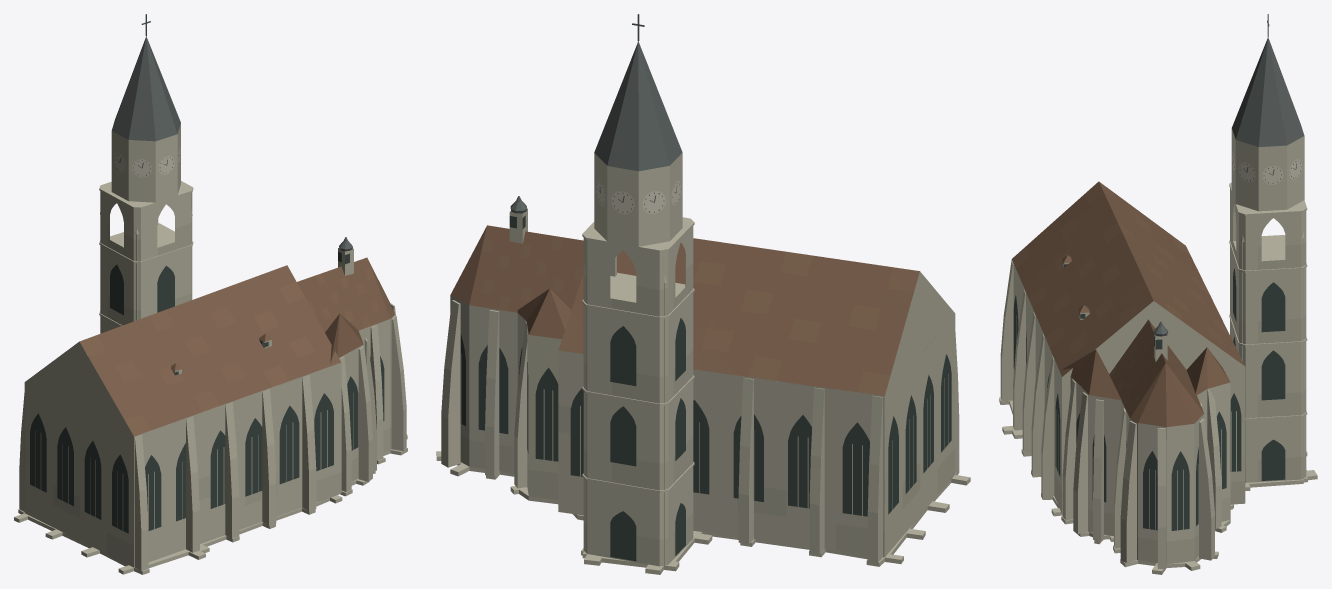
File: st-michaels-church-cluj-far.glb
The picture shows the model from 3 angles, left to right: view 1: azimuth 30°, elevation 25°; view 2: azimuth 150°, elevation 25°; view 3: azimuth 270°, elevation 25°; orthographic projection. The views are drawn at different scales.
Parts seen in each view (by area): view 1: st-michaels-church-cluj-0-stone, st-michaels-church-cluj-0-roof, st-michaels-church-cluj-0-glass, st-michaels-church-cluj-0-roof2, st-michaels-church-cluj-0-stone2, st-michaels-church-cluj-0-slate, st-michaels-church-cluj-0-clock; view 2: st-michaels-church-cluj-0-stone, st-michaels-church-cluj-0-roof, st-michaels-church-cluj-0-glass, st-michaels-church-cluj-0-stone2, st-michaels-church-cluj-0-roof2, st-michaels-church-cluj-0-slate, st-michaels-church-cluj-0-clock; view 3: st-michaels-church-cluj-0-stone, st-michaels-church-cluj-0-roof, st-michaels-church-cluj-0-glass, st-michaels-church-cluj-0-stone2, st-michaels-church-cluj-0-roof2, st-michaels-church-cluj-0-slate, st-michaels-church-cluj-0-clock.
Part boxes in pixels (left/top/right/bottom): st-michaels-church-cluj-0-stone: left=14, top=123, right=407, bottom=574; st-michaels-church-cluj-0-roof: left=89, top=257, right=394, bottom=430; st-michaels-church-cluj-0-glass: left=30, top=251, right=384, bottom=533; st-michaels-church-cluj-0-roof2: left=79, top=268, right=379, bottom=436; st-michaels-church-cluj-0-stone2: left=24, top=222, right=391, bottom=567; st-michaels-church-cluj-0-slate: left=112, top=36, right=353, bottom=251; st-michaels-church-cluj-0-clock: left=113, top=146, right=180, bottom=177; st-michaels-church-cluj-0-stone: left=436, top=153, right=970, bottom=574; st-michaels-church-cluj-0-roof: left=450, top=225, right=913, bottom=392; st-michaels-church-cluj-0-glass: left=460, top=215, right=951, bottom=561; st-michaels-church-cluj-0-stone2: left=460, top=263, right=955, bottom=566; st-michaels-church-cluj-0-roof2: left=481, top=236, right=919, bottom=395; st-michaels-church-cluj-0-slate: left=510, top=41, right=682, bottom=213; st-michaels-church-cluj-0-clock: left=596, top=181, right=680, bottom=214; st-michaels-church-cluj-0-stone: left=999, top=128, right=1317, bottom=574; st-michaels-church-cluj-0-roof: left=1016, top=191, right=1244, bottom=427; st-michaels-church-cluj-0-glass: left=1013, top=261, right=1285, bottom=530; st-michaels-church-cluj-0-stone2: left=1046, top=238, right=1306, bottom=564; st-michaels-church-cluj-0-roof2: left=1012, top=181, right=1229, bottom=407; st-michaels-church-cluj-0-slate: left=1153, top=37, right=1304, bottom=336; st-michaels-church-cluj-0-clock: left=1232, top=152, right=1302, bottom=184.
Size of the model in its own units: 73.46 by 80 by 50.79.
